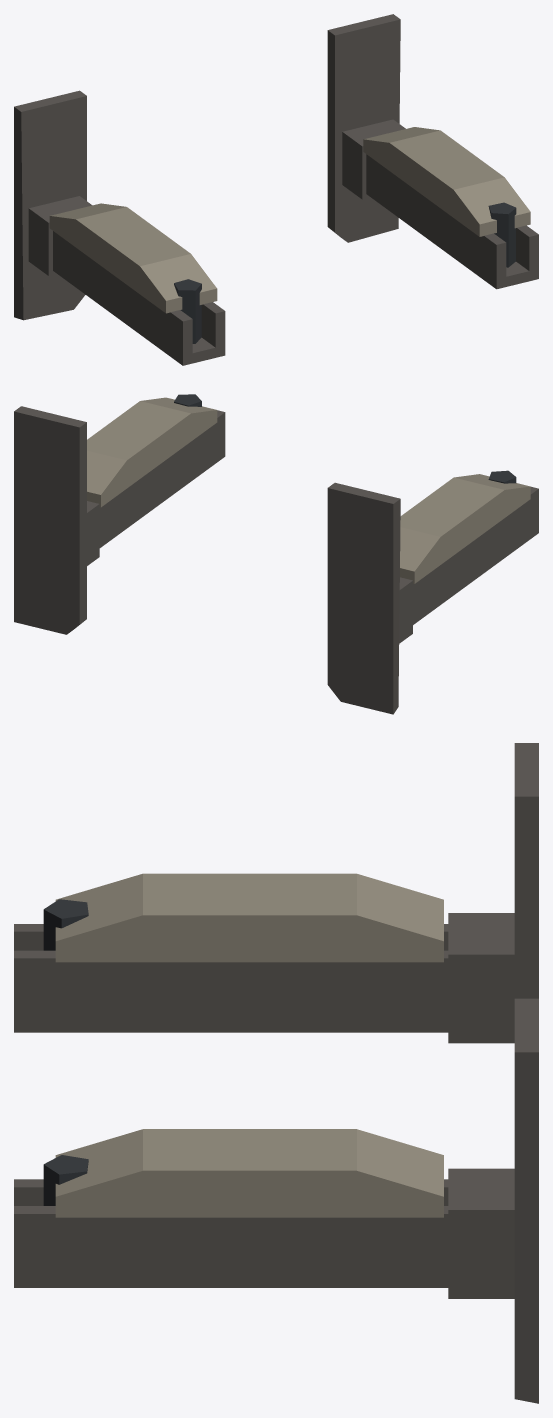
The model's file is SM_Prop_Airconditioner_Mount_02.glb.
3 renders of one model, top to bottom at view 1: azimuth 30°, elevation 25°; view 2: azimuth 150°, elevation 25°; view 3: azimuth 270°, elevation 25°, orthographic. The views are drawn at different scales.
Parts seen in each view (by area): view 1: SM_Prop_Airconditioner_Mount_02; view 2: SM_Prop_Airconditioner_Mount_02; view 3: SM_Prop_Airconditioner_Mount_02.
Part boxes in pixels (x1,y1,x2,y2): SM_Prop_Airconditioner_Mount_02: [14, 14, 538, 365]; SM_Prop_Airconditioner_Mount_02: [14, 394, 538, 714]; SM_Prop_Airconditioner_Mount_02: [14, 743, 538, 1403].
Size of the model in its own units: 0.8934 by 0.4739 by 0.6413.
Materials: 1 (1 with a texture image).
